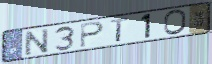1: (139, 12, 153, 41)
3: (53, 24, 76, 52)
N: (23, 27, 50, 57)
O: (162, 8, 188, 36)
P: (79, 21, 106, 49)
T: (109, 17, 131, 43)
